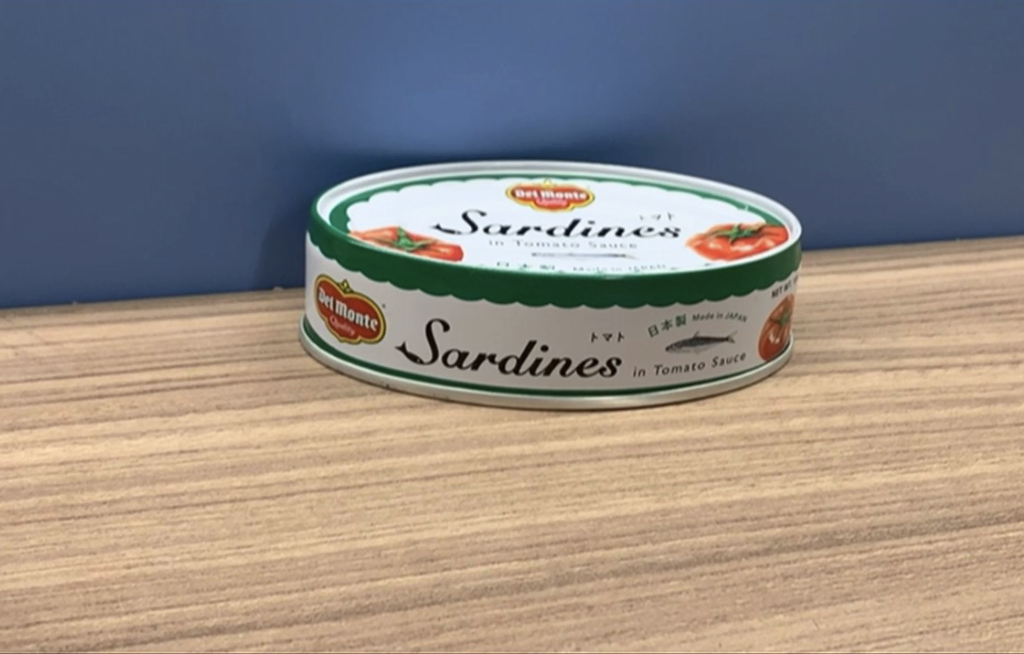sardines_100g-199g: (321, 182, 773, 381)
